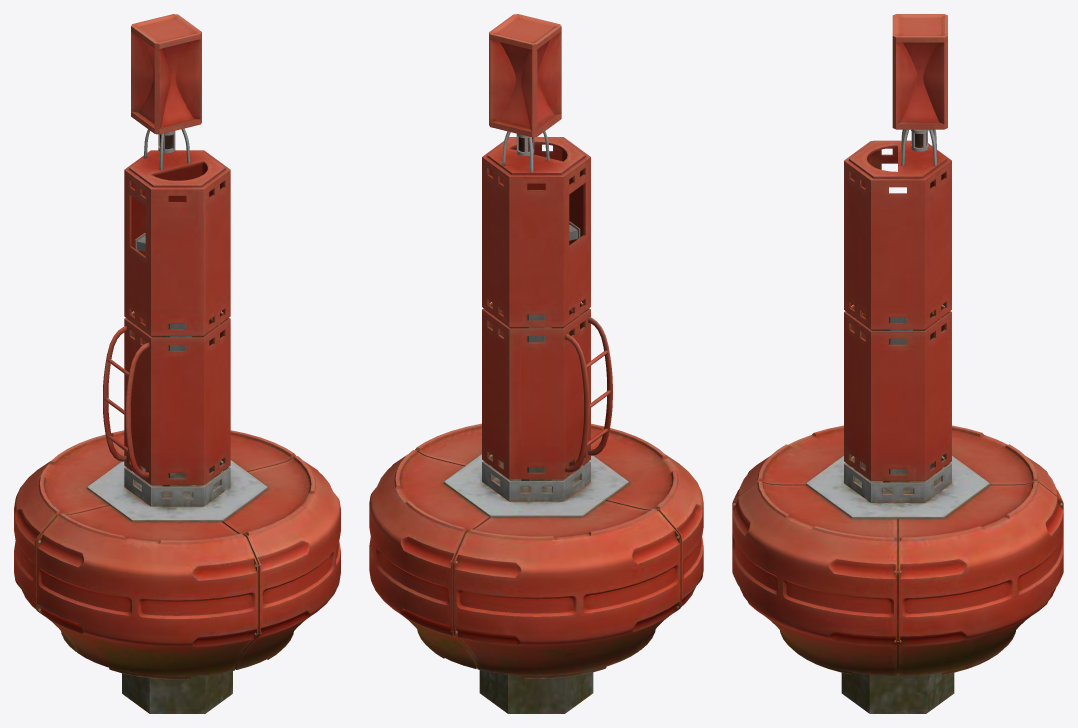
Rendered from lateral_sea_marker.glb.
3 views of the same model, side by side, from view 1: azimuth 30°, elevation 25°; view 2: azimuth 150°, elevation 25°; view 3: azimuth 270°, elevation 25° (orthographic). The views are drawn at different scales.
Visible parts, largest first — view 1: lateral_sea_marker; view 2: lateral_sea_marker; view 3: lateral_sea_marker.
Boxes of the visible parts, x1=… form: lateral_sea_marker: x1=14, y1=14, x2=340, y2=713; lateral_sea_marker: x1=369, y1=14, x2=703, y2=713; lateral_sea_marker: x1=732, y1=14, x2=1063, y2=713.
Bounding box in the file's own units: 3 × 6.84 × 3.
1 material, 1 textured.
